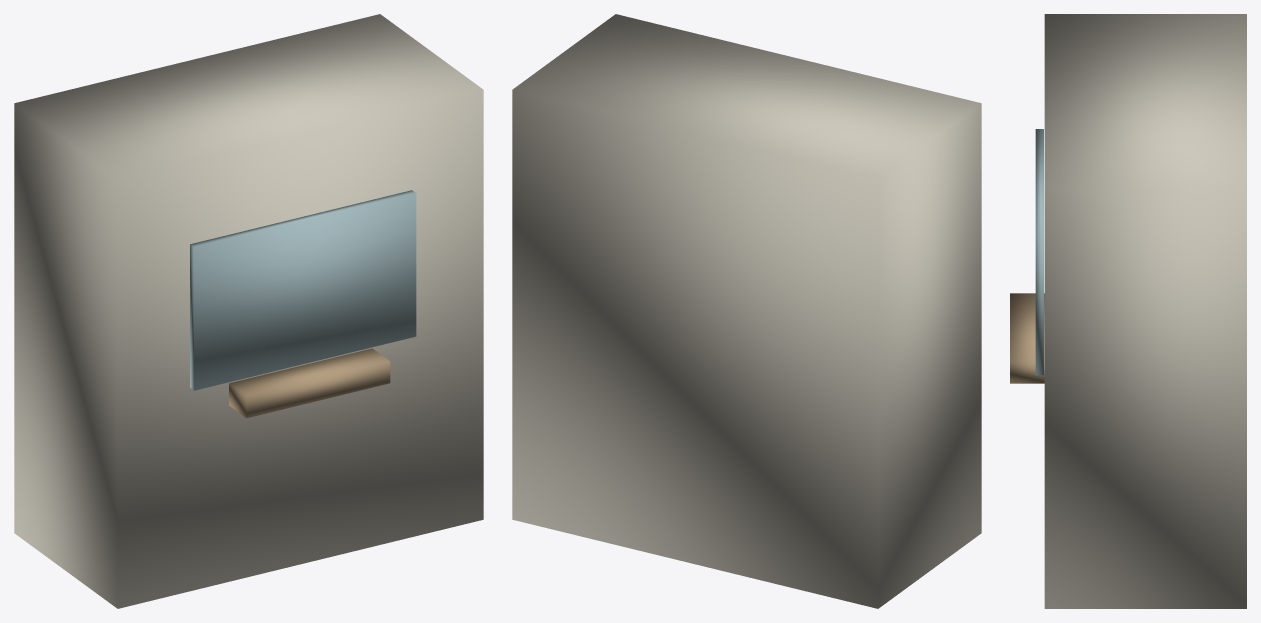
Rendered from ticket_booth__wide.glb.
The picture shows the model from 3 angles, left to right: view 1: azimuth 30°, elevation 25°; view 2: azimuth 150°, elevation 25°; view 3: azimuth 270°, elevation 25°; orthographic projection. The views are drawn at different scales.
Parts seen in each view (by area): view 1: world; view 2: world; view 3: world.
Part boxes in pixels (bbox=[...]): world: bbox=[14, 14, 483, 608]; world: bbox=[512, 14, 981, 608]; world: bbox=[1010, 14, 1246, 608].
Bounding box in the file's own units: 1.74 × 1.95 × 0.995.
